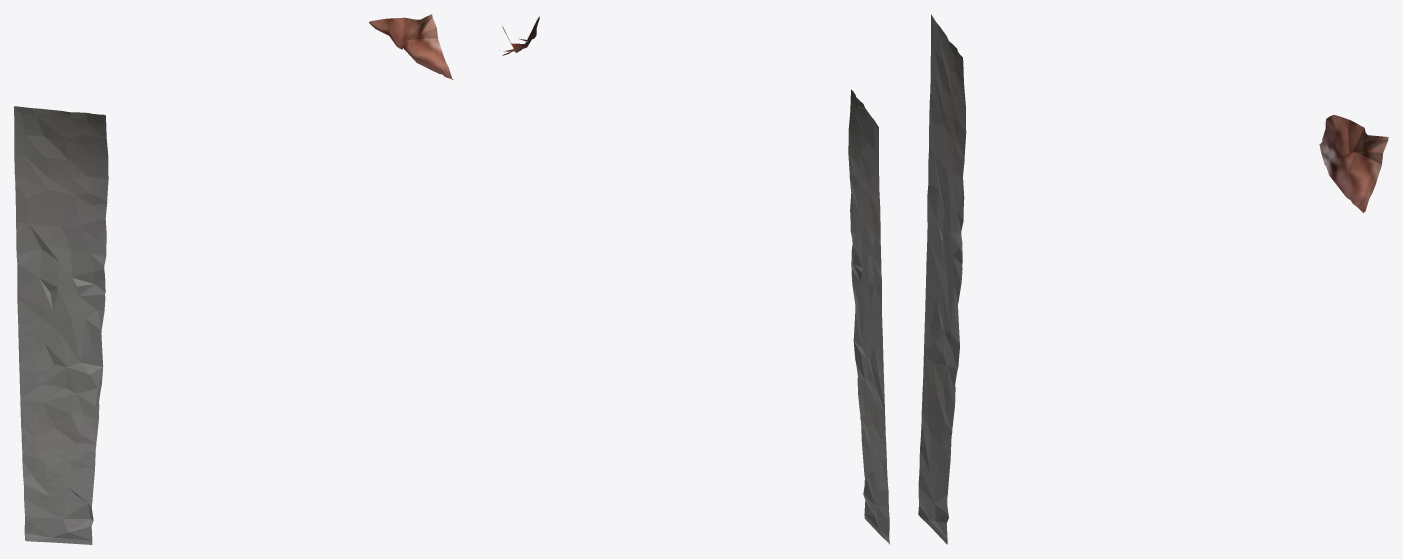
3 renders of one model, left to right at view 1: azimuth 30°, elevation 25°; view 2: azimuth 150°, elevation 25°; view 3: azimuth 330°, elevation 25°, orthographic. The views are drawn at different scales.
Bounding box in the file's own units: 0.8374 × 0.8373 × 0.1136.
1 material, 1 textured.
